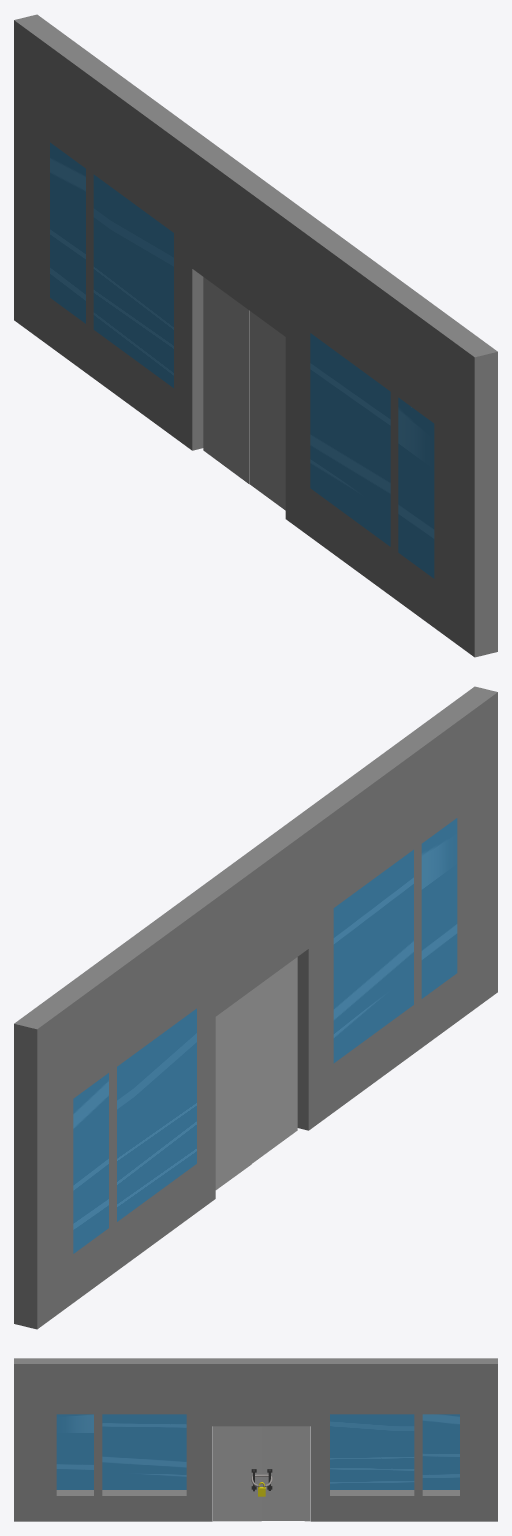
Rendered from door_key.fbx.
3 renders of one model, top to bottom at view 1: azimuth 30°, elevation 25°; view 2: azimuth 150°, elevation 25°; view 3: azimuth 270°, elevation 25°, orthographic. The views are drawn at different scales.
Parts seen in each view (by area): view 1: wall, window_3.001, window_2.001, door_2.001, door_1.001, window_1.001, window_4.001; view 2: wall, window_2.001, window_3.001, door_1.001, door_2.001, window_1.001, window_4.001; view 3: wall, window_2.001, window_3.001, door_2.001, door_1.001, window_1.001, window_4.001.
Boxes of the visible parts, box(x1,y1,x2,y2) form: wall: box(14, 14, 497, 657); window_3.001: box(93, 174, 173, 387); window_2.001: box(310, 333, 390, 546); door_2.001: box(203, 277, 249, 484); door_1.001: box(249, 311, 285, 510); window_1.001: box(398, 397, 434, 578); window_4.001: box(50, 142, 85, 323); wall: box(14, 686, 497, 1329); window_2.001: box(333, 849, 413, 1063); window_3.001: box(117, 1008, 196, 1221); door_1.001: box(251, 957, 297, 1163); door_2.001: box(215, 991, 251, 1189); window_1.001: box(421, 818, 457, 998); window_4.001: box(73, 1073, 108, 1253); wall: box(14, 1358, 497, 1521); window_2.001: box(102, 1414, 186, 1489); window_3.001: box(330, 1414, 414, 1489); door_2.001: box(261, 1426, 310, 1521); door_1.001: box(213, 1426, 261, 1521); window_1.001: box(56, 1414, 93, 1489); window_4.001: box(422, 1414, 459, 1489).
Size of the model in its own units: 141 by 1174 by 3245.
